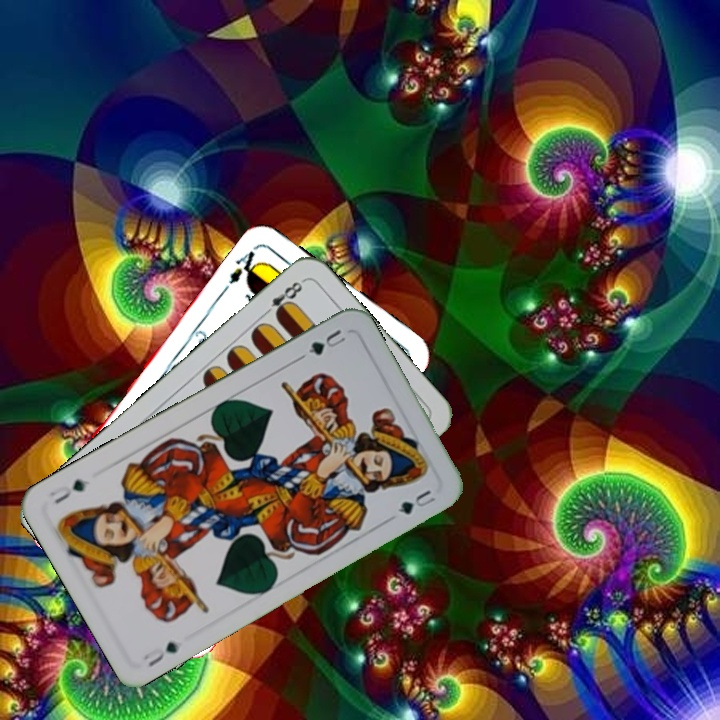E8: (258, 276, 307, 321)
EA: (224, 242, 264, 287)
GU: (304, 325, 349, 358), (139, 637, 182, 670)
